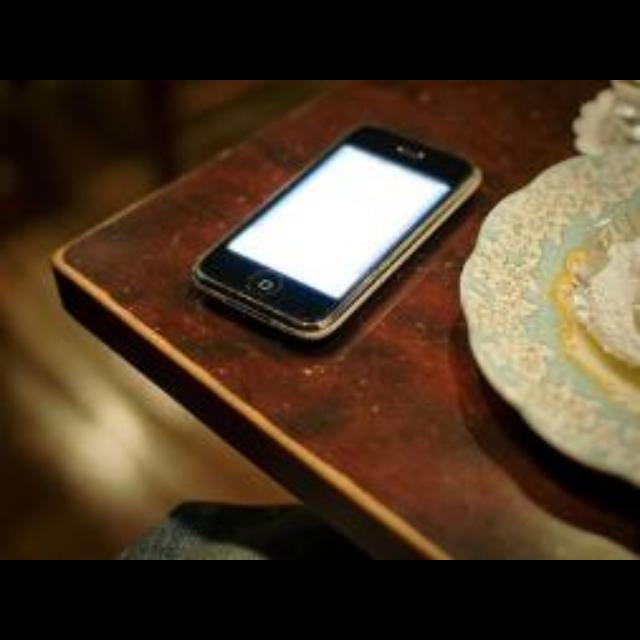Phone: (182, 120, 480, 338)
